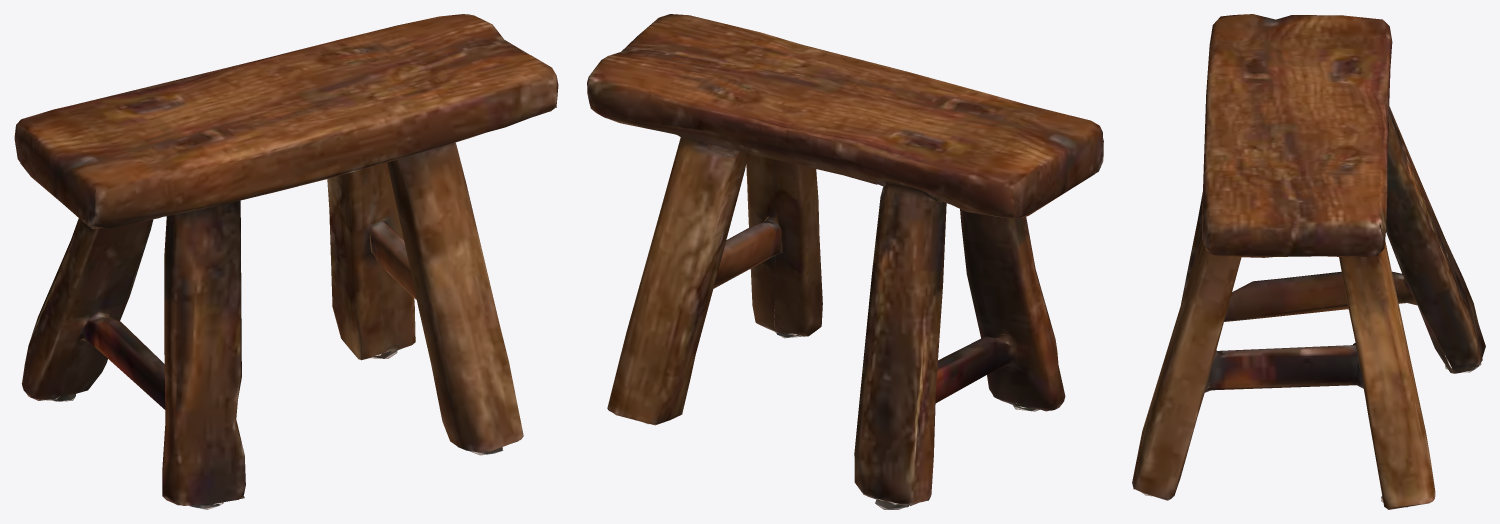
The model's file is ph_wooden_stool_02.glb.
3 views of the same model, side by side, from view 1: azimuth 30°, elevation 25°; view 2: azimuth 150°, elevation 25°; view 3: azimuth 270°, elevation 25° (orthographic). The views are drawn at different scales.
Parts seen in each view (by area): view 1: wooden_stool_02; view 2: wooden_stool_02; view 3: wooden_stool_02.
Boxes of the visible parts, x1,y1,x2,y2 form: wooden_stool_02: [14, 14, 558, 509]; wooden_stool_02: [587, 14, 1103, 509]; wooden_stool_02: [1132, 14, 1485, 509].
Size of the model in its own units: 0.2651 by 0.1817 by 0.1837.
Materials: 1 (1 with a texture image).
